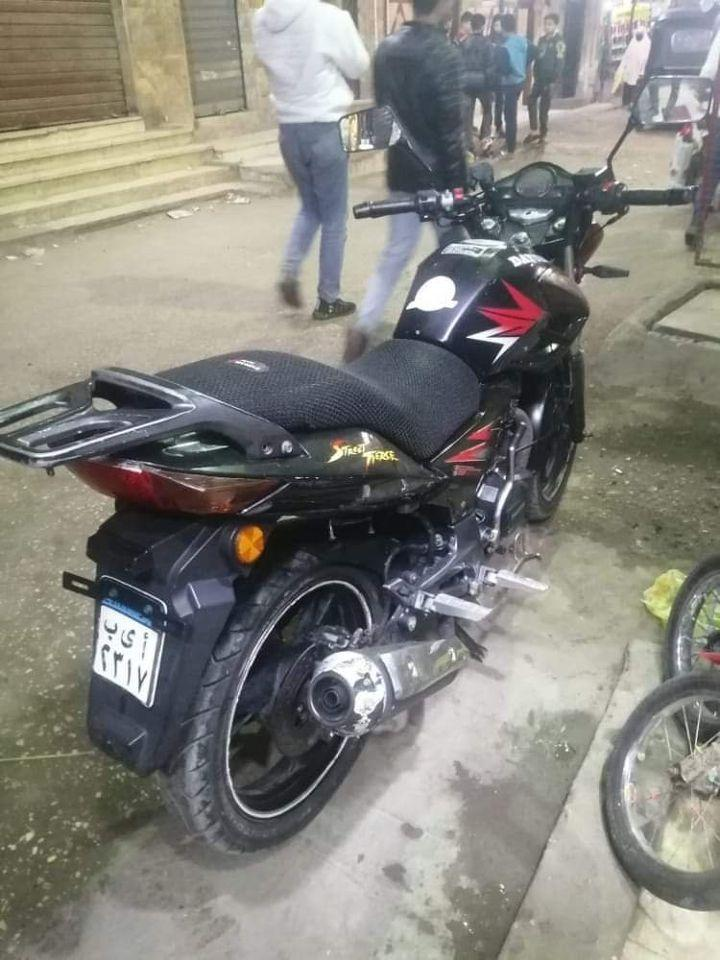License Plate: (90, 581, 164, 707)
